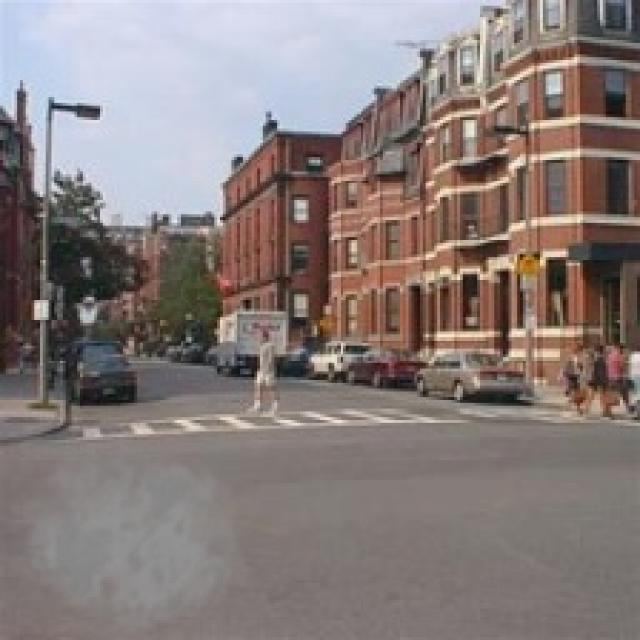Smoke: (2, 426, 252, 638)
